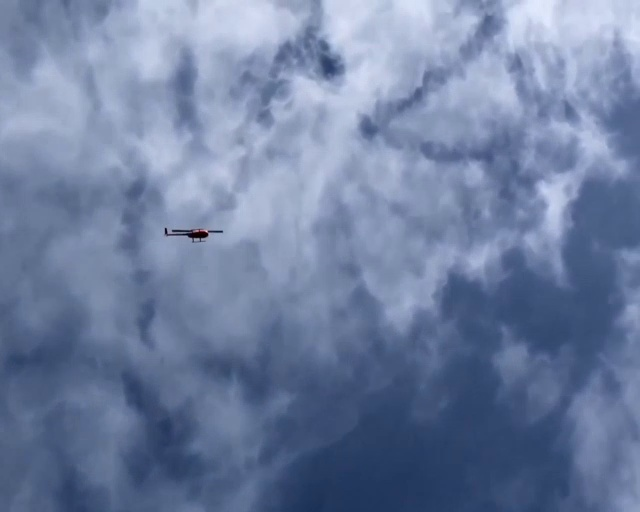HELICOPTER: (165, 225, 224, 243)
